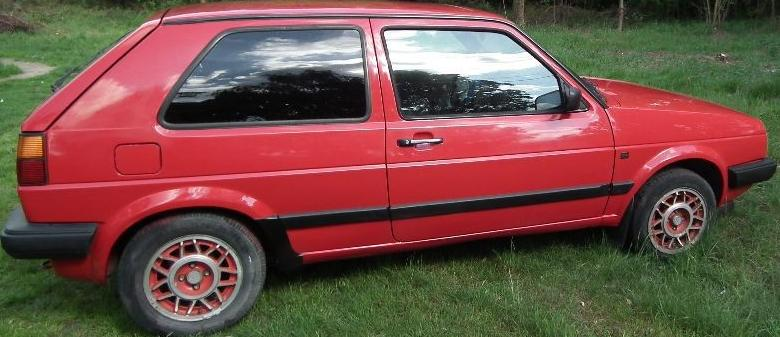backlight: (1, 115, 71, 199)
side_glass: (154, 26, 572, 130)
